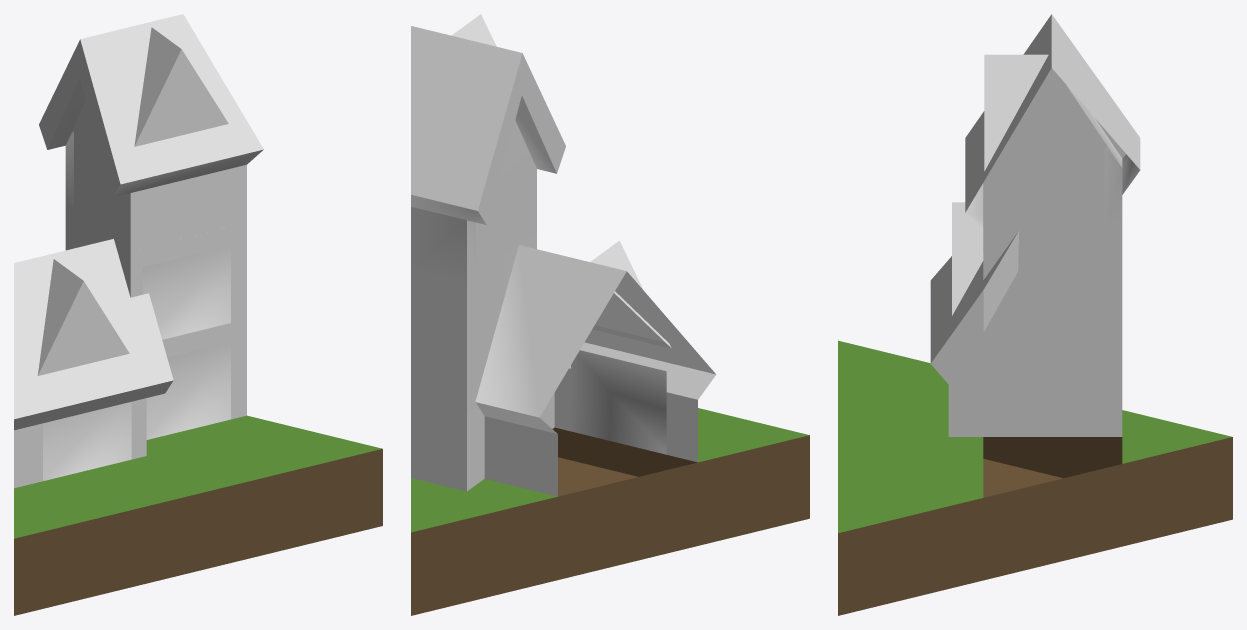
File: Casa_to_Pis_EE_Invertit.fbx
The picture shows the model from 3 angles, left to right: view 1: azimuth 30°, elevation 25°; view 2: azimuth 150°, elevation 25°; view 3: azimuth 270°, elevation 25°; orthographic projection. The views are drawn at different scales.
Parts seen in each view (by area): view 1: Casa_to_Pis_EE_Invertit, DetallCantonada.013, DetallParet.079, DetallTeulada.027, DetallTeulada.026, DetallParet.077, DetallParet.078, DetallAltell_1.005; view 2: Casa_to_Pis_EE_Invertit, DetallParet.078, DetallCantonada.013, DetallTeulada.026, DetallTeulada.027, DetallAltell_1.005; view 3: Casa_to_Pis_EE_Invertit, DetallCantonada.013, DetallAltell_1.005, DetallTeulada.027, DetallTeulada.026.
Part boxes in pixels (left/top/right/bottom): Casa_to_Pis_EE_Invertit: left=14, top=14, right=382, bottom=615; DetallCantonada.013: left=74, top=132, right=228, bottom=250; DetallParet.079: left=142, top=246, right=230, bottom=339; DetallTeulada.027: left=134, top=27, right=228, bottom=146; DetallTeulada.026: left=37, top=259, right=129, bottom=375; DetallParet.077: left=146, top=342, right=230, bottom=439; DetallParet.078: left=43, top=402, right=131, bottom=480; DetallAltell_1.005: left=72, top=101, right=99, bottom=150; Casa_to_Pis_EE_Invertit: left=411, top=26, right=809, bottom=615; DetallParet.078: left=571, top=350, right=666, bottom=454; DetallCantonada.013: left=476, top=153, right=536, bottom=275; DetallTeulada.026: left=590, top=240, right=671, bottom=348; DetallTeulada.027: left=452, top=14, right=496, bottom=46; DetallAltell_1.005: left=500, top=120, right=529, bottom=174; Casa_to_Pis_EE_Invertit: left=838, top=14, right=1232, bottom=615; DetallCantonada.013: left=983, top=147, right=1104, bottom=250; DetallAltell_1.005: left=1004, top=68, right=1107, bottom=147; DetallTeulada.027: left=984, top=54, right=1048, bottom=171; DetallTeulada.026: left=952, top=202, right=983, bottom=315.
Size of the model in its own units: 100 by 120 by 86.6.
